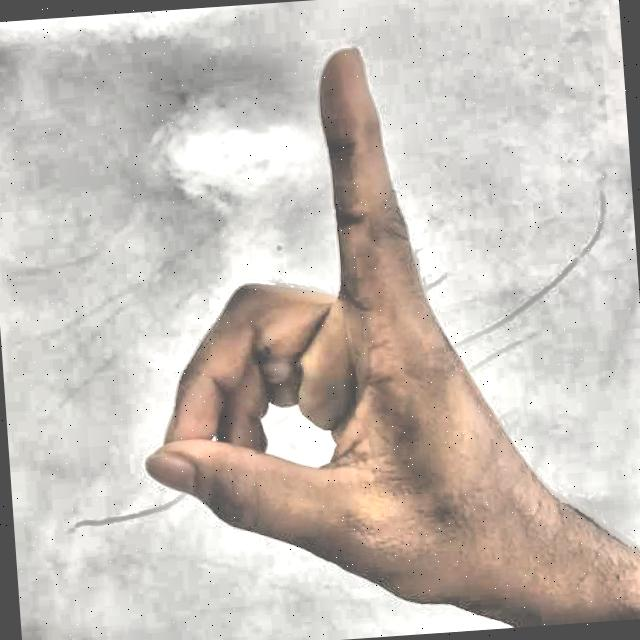Dha: (109, 17, 577, 640)
